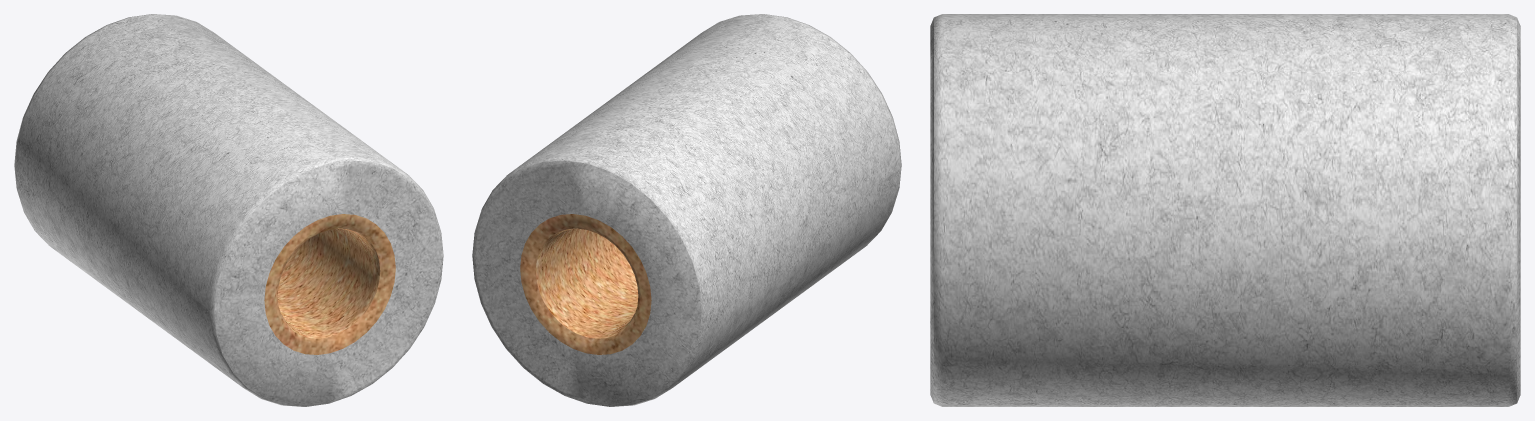
The picture shows the model from 3 angles, left to right: view 1: azimuth 30°, elevation 25°; view 2: azimuth 150°, elevation 25°; view 3: azimuth 270°, elevation 25°; orthographic projection. The views are drawn at different scales.
Parts seen in each view (by area): view 1: Cylinder; view 2: Cylinder; view 3: Cylinder.
Boxes of the visible parts, x1,y1,x2,y2 form: Cylinder: [14, 14, 443, 406]; Cylinder: [472, 14, 901, 406]; Cylinder: [930, 14, 1520, 406].
Bounding box in the file's own units: 0.2 × 0.2 × 0.3.
Materials: 2 (2 with a texture image).
